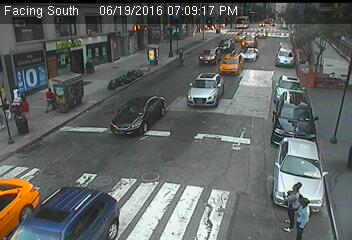neg: (107, 65, 136, 105), (279, 46, 306, 82), (218, 27, 242, 60), (171, 41, 191, 68)
pos: (291, 195, 322, 236), (40, 84, 60, 112), (6, 80, 24, 105)
